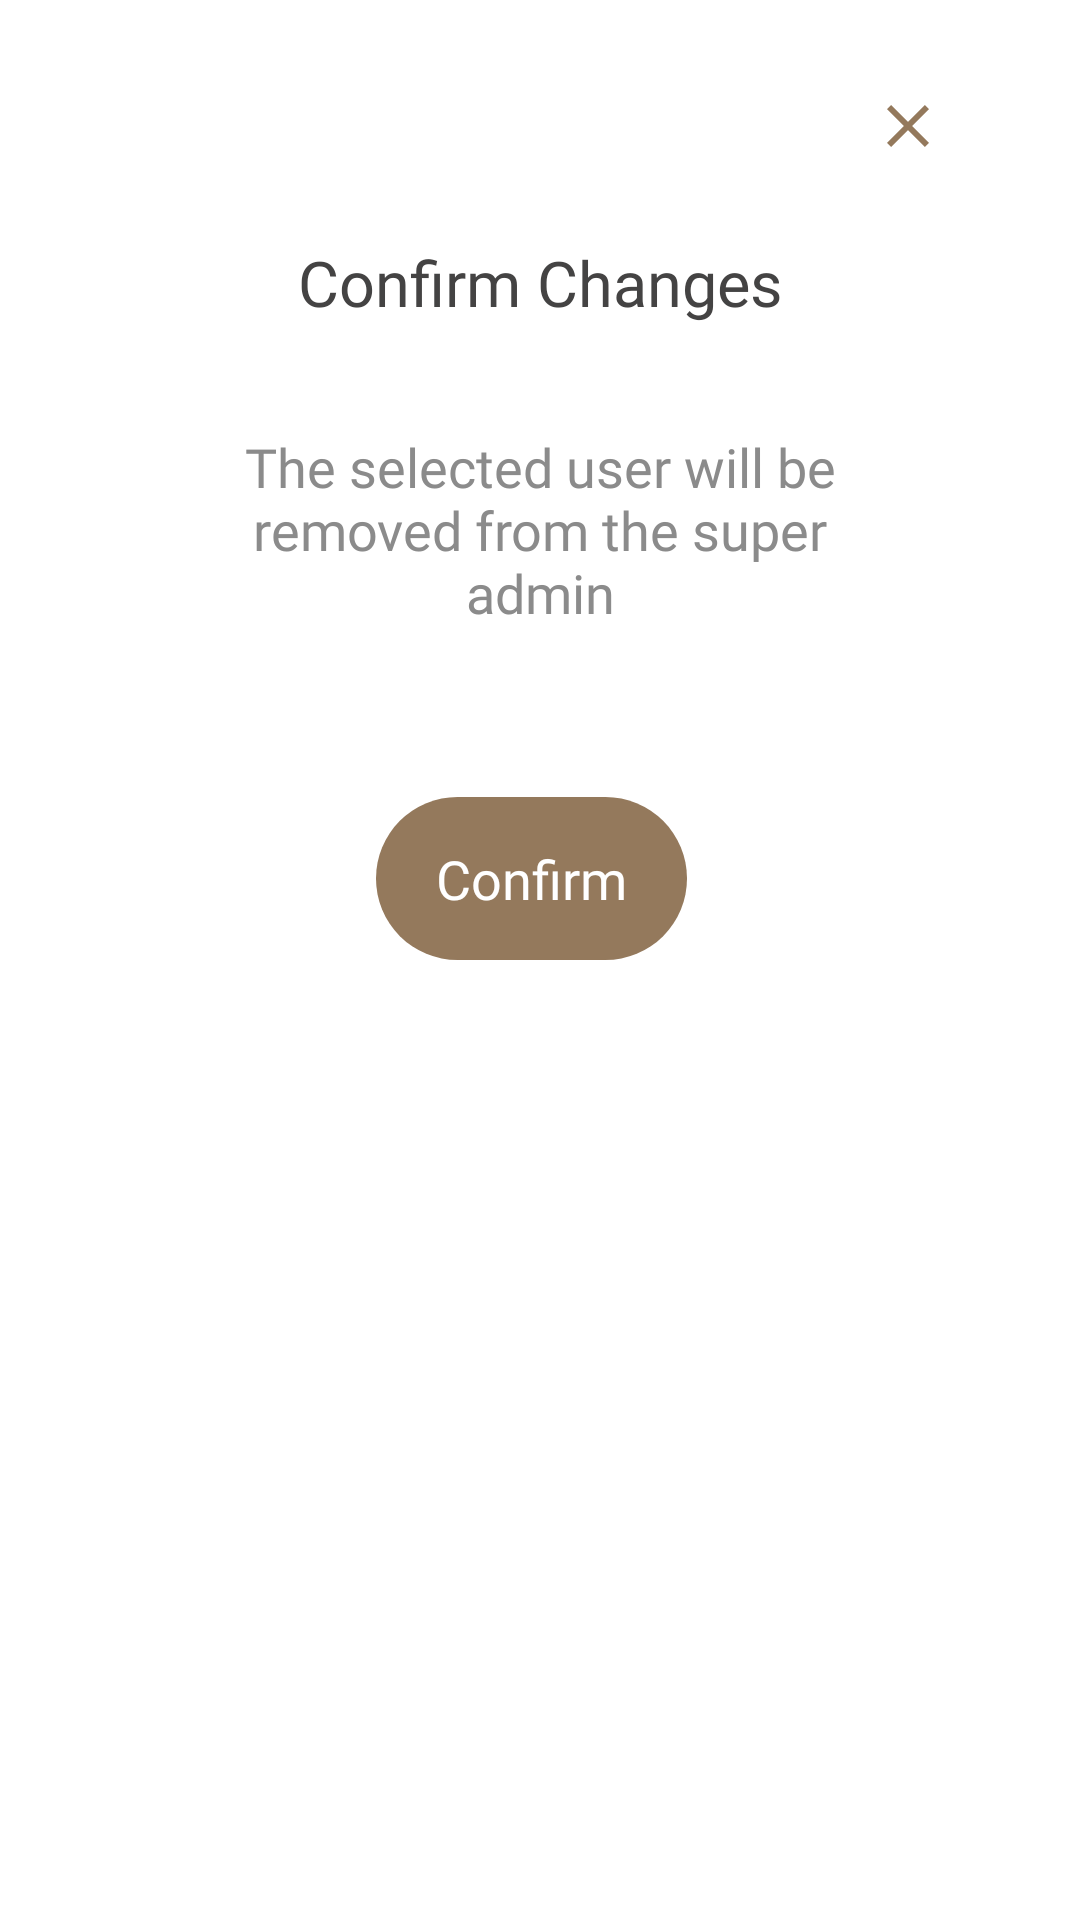

Screen size 1080×1920. Icon name, then its center in pixels as [x,y]:
cross symbol: [908,126]
